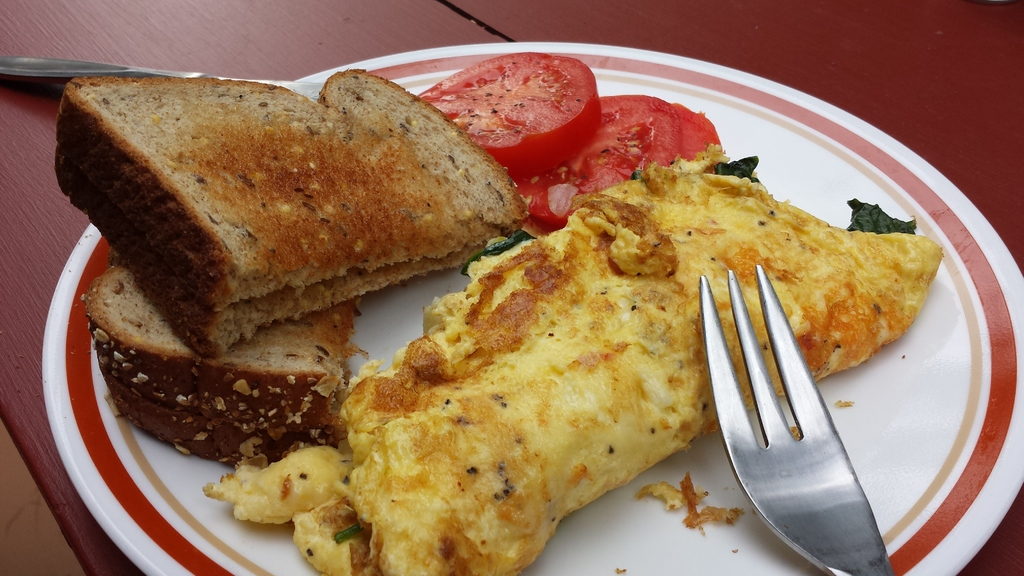sandwich: (56, 63, 529, 364), (82, 253, 366, 467)
